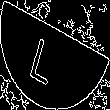L_N: (38, 26, 72, 84)
